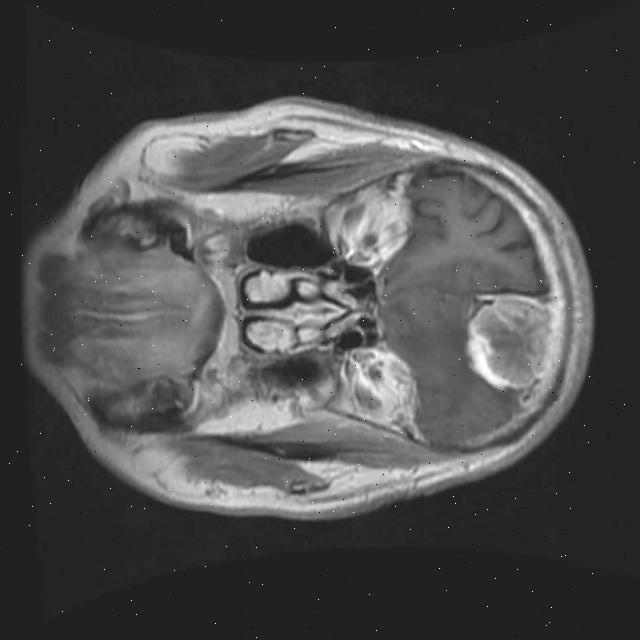Meningioma: (459, 287, 563, 397)
